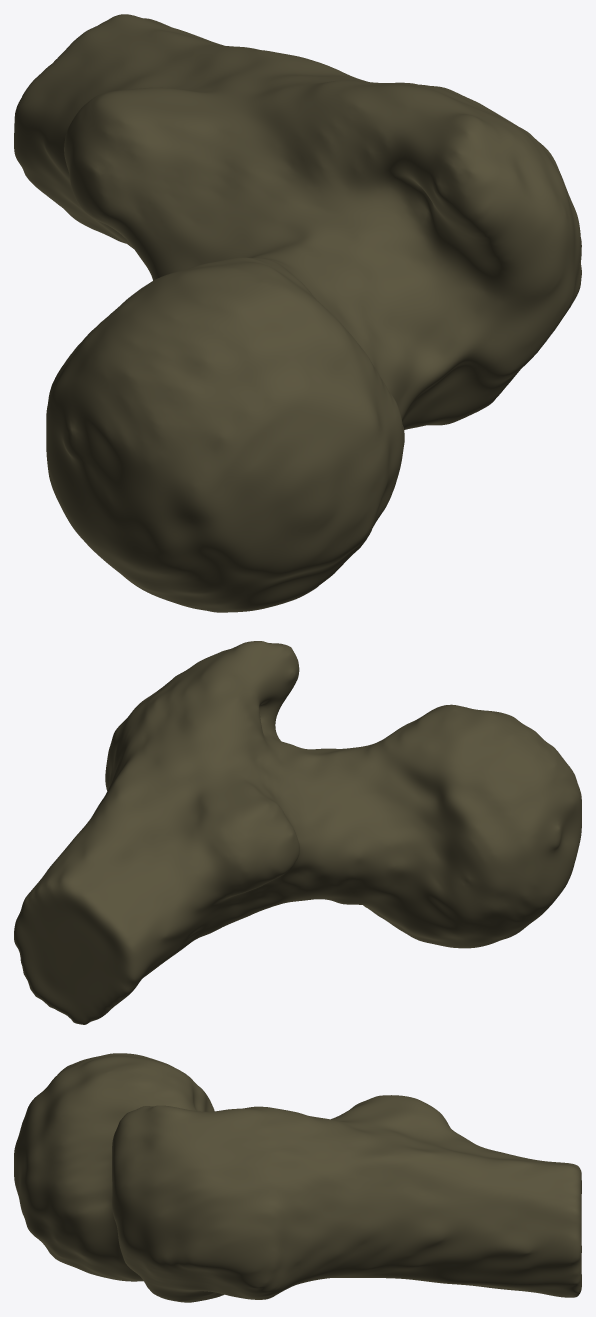
Rendered from left femur.obj.
3 views of the same model, one above another, from view 1: azimuth 30°, elevation 25°; view 2: azimuth 150°, elevation 25°; view 3: azimuth 270°, elevation 25° (orthographic). The views are drawn at different scales.
Parts seen in each view (by area): view 1: grp1; view 2: grp1; view 3: grp1.
Part boxes in pixels (x1,y1,x2,y2): grp1: (14,14,581,612); grp1: (14,641,581,1024); grp1: (14,1053,581,1302).
Bounding box in the file's own units: 98.13 × 63.34 × 130.
